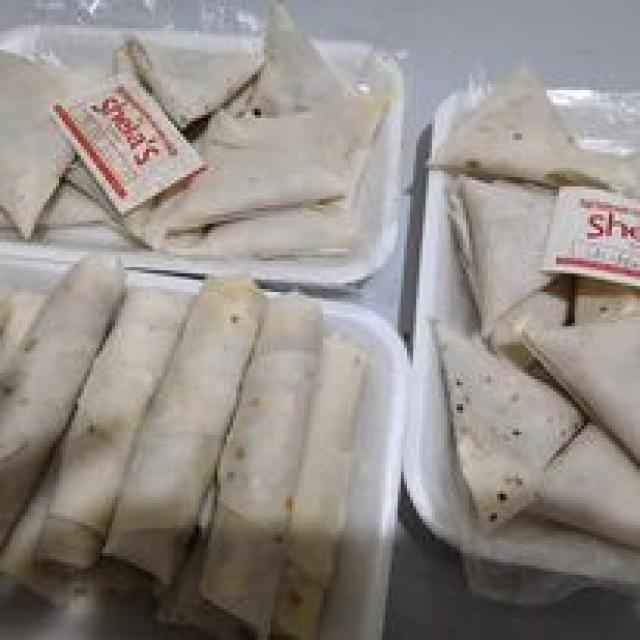Samosa: (432, 59, 637, 553), (9, 25, 376, 232)
Spring Rolls: (0, 243, 359, 625)
